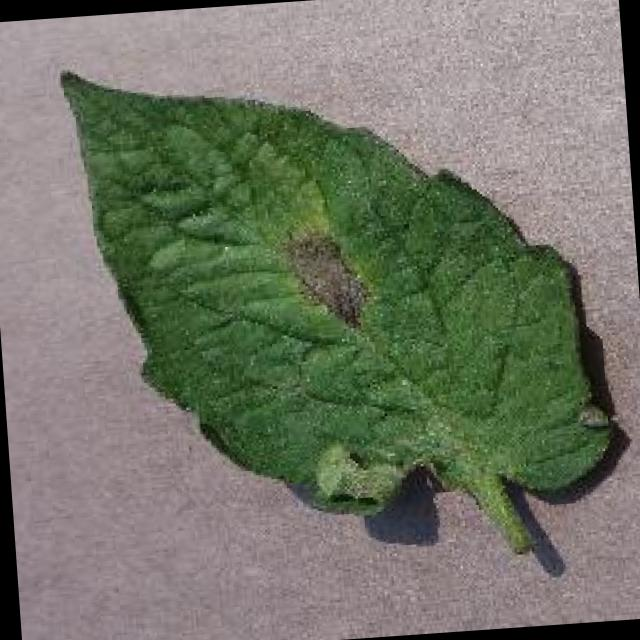Tomato_Late_Blight: (204, 173, 408, 380)
